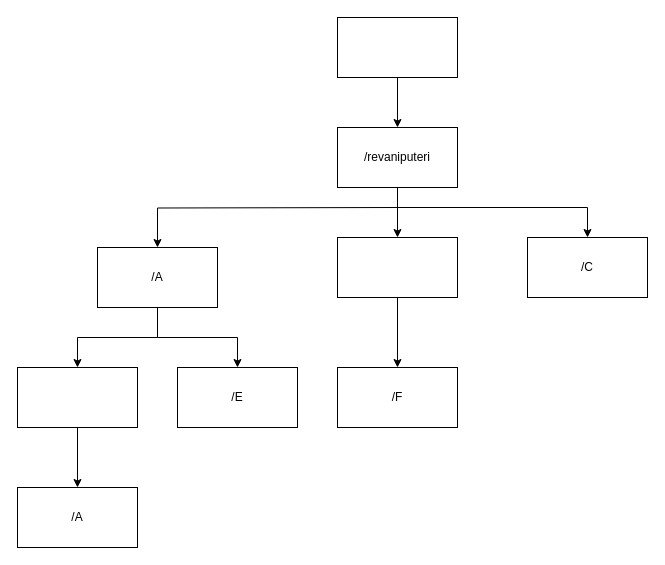
The diagram is 665 pixels wide and 565 high, and some of its shapes have lost their labels. Here are the shapes that lost their labels. From the top down, the centre of each, then its label:
(x=397, y=47): /home
(x=397, y=267): /B
(x=77, y=397): /D
